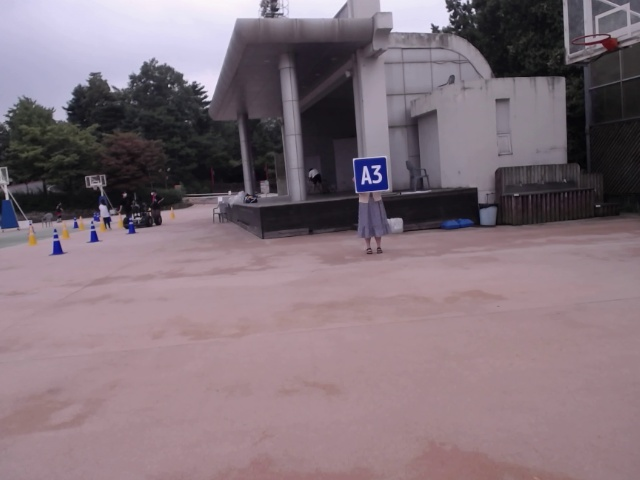delivery_a3: (353, 157, 390, 193)
